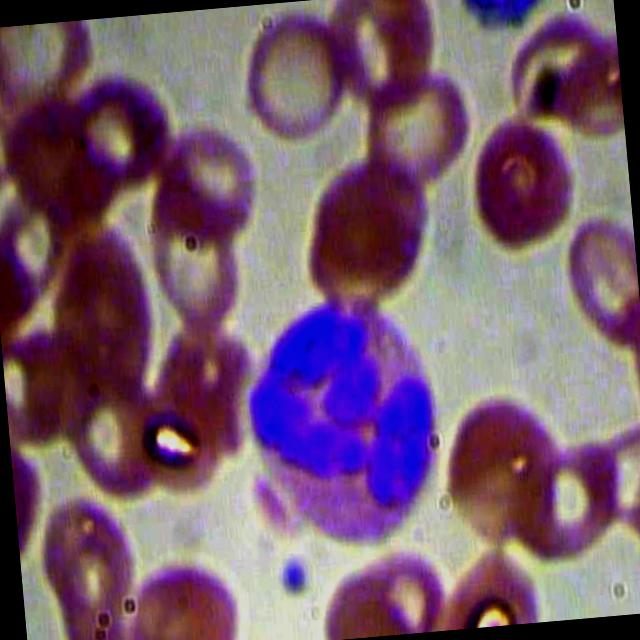Platelets: (272, 544, 312, 604)
RBC: (288, 148, 436, 312), (36, 221, 160, 416), (437, 385, 572, 555), (140, 179, 260, 343), (232, 1, 356, 142), (461, 111, 585, 252), (146, 107, 270, 248), (358, 68, 478, 198), (321, 0, 449, 117), (37, 486, 142, 624), (313, 545, 452, 640), (121, 538, 243, 640), (562, 202, 640, 347), (433, 546, 552, 631)
WBC: (232, 274, 470, 558)
